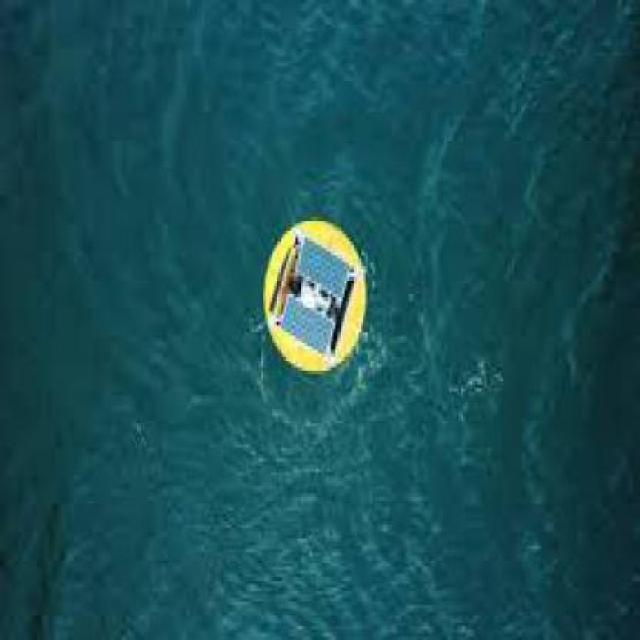buoy: (238, 197, 382, 408)
